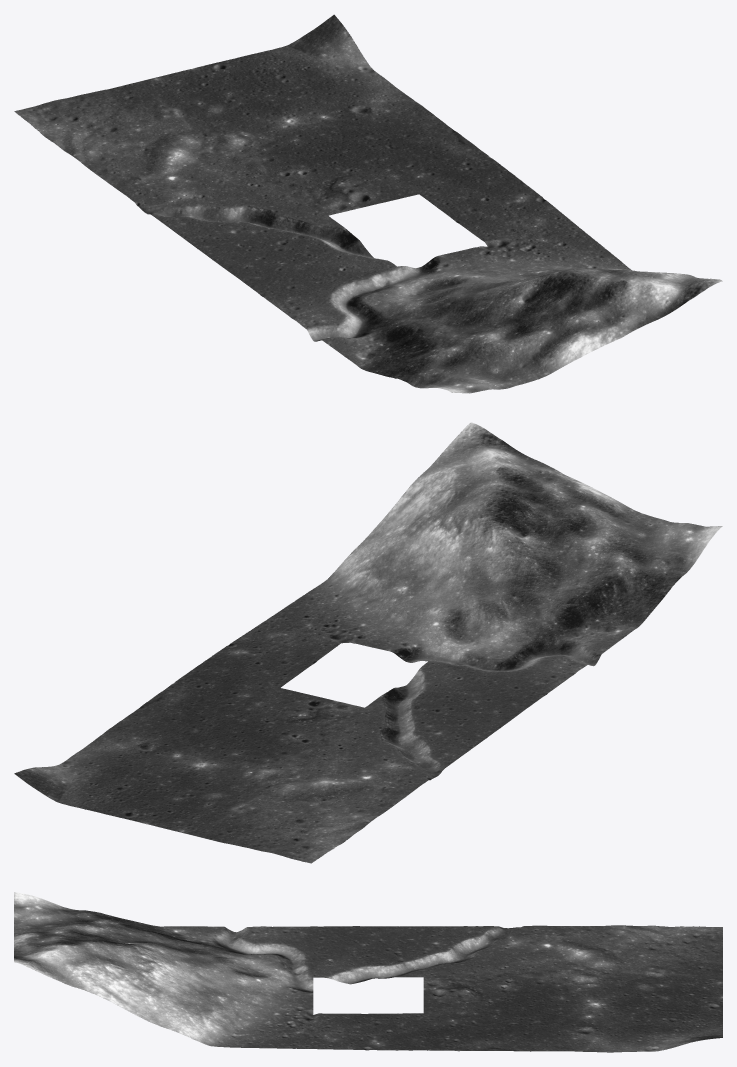
File: far-low.glb
3 renders of one model, top to bottom at view 1: azimuth 30°, elevation 25°; view 2: azimuth 150°, elevation 25°; view 3: azimuth 270°, elevation 25°, orthographic. The views are drawn at different scales.
Visible parts, largest first — view 1: far; view 2: far; view 3: far.
Boxes of the visible parts, <box> form: far: <box>14,14,722,393</box>; far: <box>14,422,722,863</box>; far: <box>14,892,722,1052</box>.
Bounding box in the file's own units: 12699 × 3602 × 30000.
Materials: 1 (1 with a texture image).
